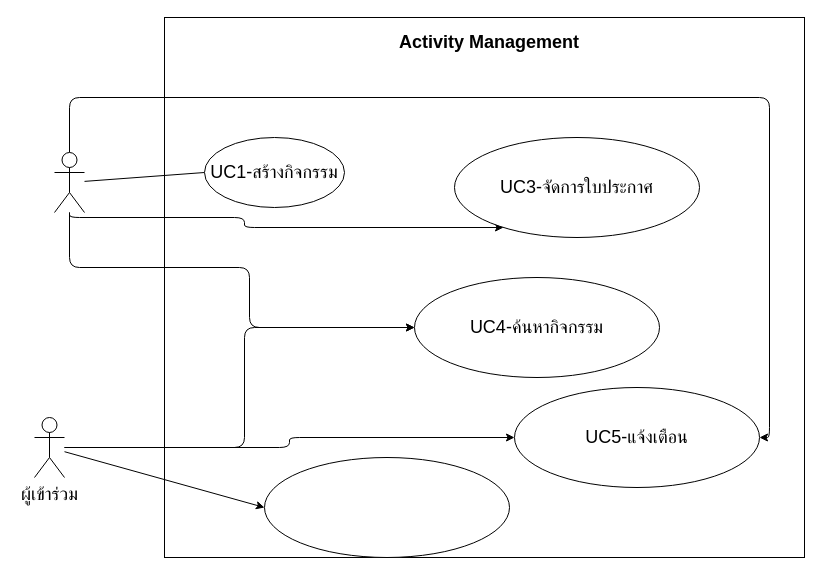
This 822x575 diagram has some shape labels left out. Here are the shapes that lost their labels. From the top down, the centre of each, then its label:
the point at 69,182: ผู้สร้างกิจกกรรม
the point at 387,507: UC2-ลงทะเบียนเข้าร่วมกิจกรรม
